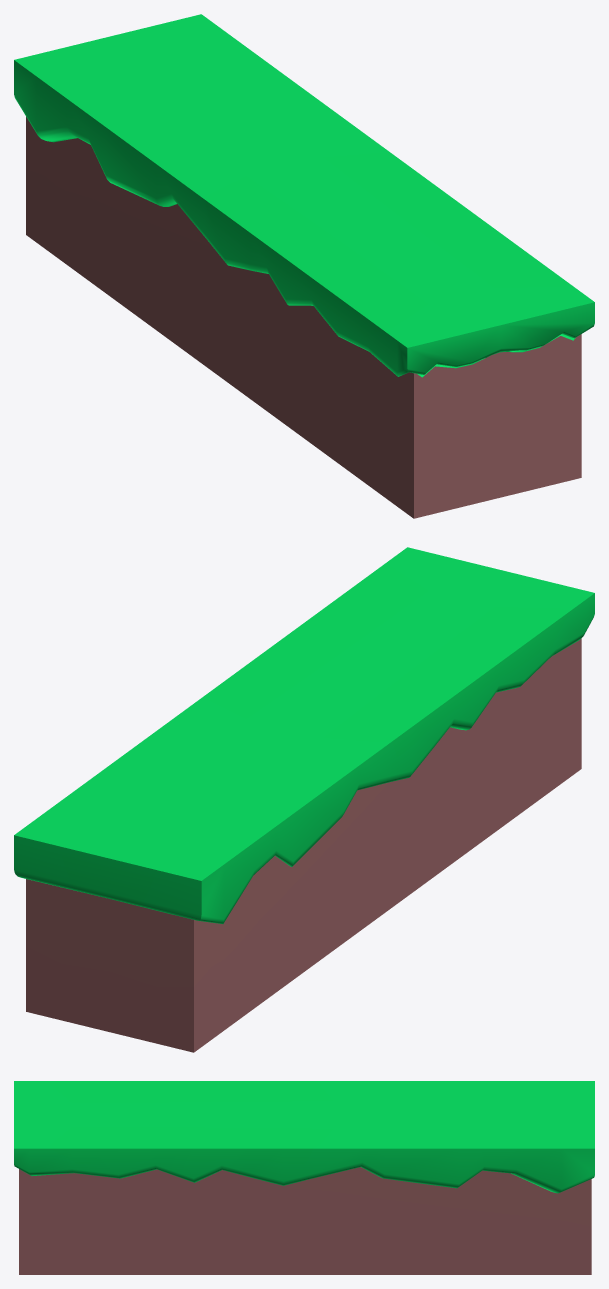
File: Summer Platform.fbx
3 renders of one model, top to bottom at view 1: azimuth 30°, elevation 25°; view 2: azimuth 150°, elevation 25°; view 3: azimuth 270°, elevation 25°, orthographic. The views are drawn at different scales.
Parts seen in each view (by area): view 1: Summer Platform; view 2: Summer Platform; view 3: Summer Platform.
Boxes of the visible parts, x1,y1,x2,y2 form: Summer Platform: [14, 14, 594, 518]; Summer Platform: [14, 547, 594, 1052]; Summer Platform: [14, 1081, 594, 1274].
Size of the model in its own units: 0.5582 by 0.5 by 2.03.
